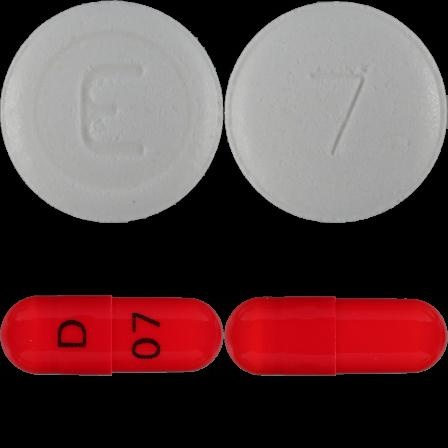65862-391: (0, 0, 224, 224)
